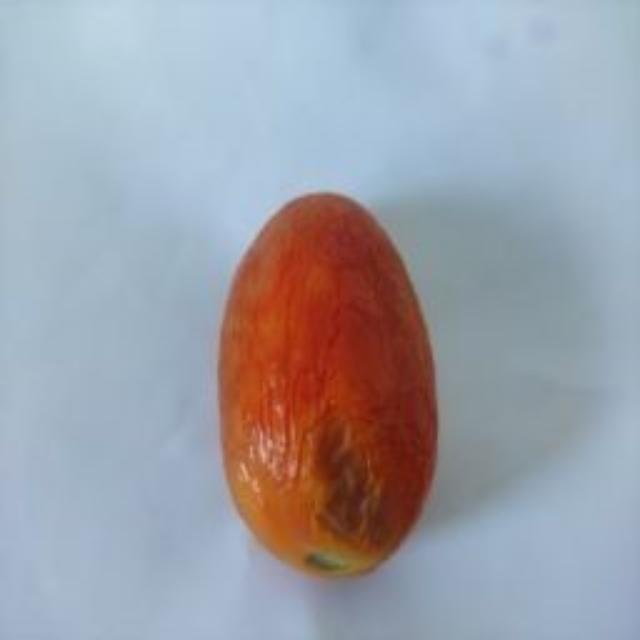defect: (205, 181, 454, 597)
